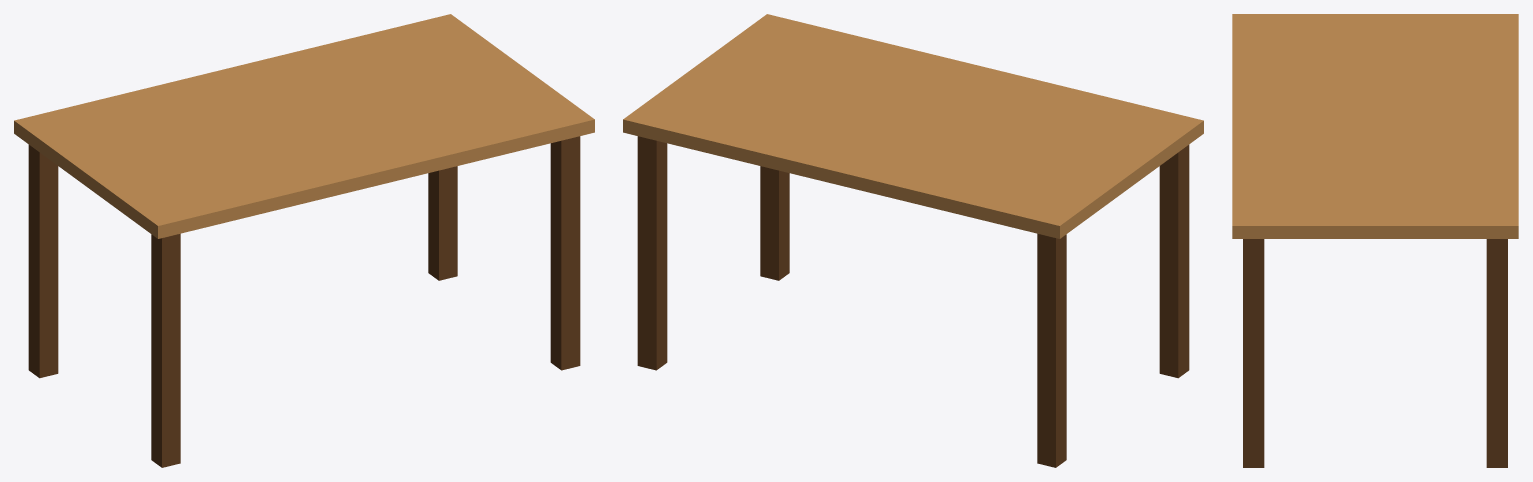
Rendered from table.obj.
3 renders of one model, left to right at view 1: azimuth 30°, elevation 25°; view 2: azimuth 150°, elevation 25°; view 3: azimuth 270°, elevation 25°, orthographic.
Visible parts, largest first — view 1: table_0, table_4, table_3, table_1, table_2; view 2: table_0, table_2, table_1, table_3, table_4; view 3: table_0, table_2, table_4.
Part boxes in pixels (x1,y1,x2,y2): table_0: [14, 14, 594, 238]; table_4: [550, 136, 580, 370]; table_3: [151, 233, 180, 467]; table_1: [28, 144, 58, 378]; table_2: [428, 166, 457, 280]; table_0: [623, 14, 1203, 238]; table_2: [637, 136, 667, 370]; table_1: [1037, 233, 1066, 467]; table_3: [1159, 144, 1189, 378]; table_4: [760, 166, 789, 280]; table_0: [1232, 14, 1518, 238]; table_2: [1486, 239, 1507, 467]; table_4: [1243, 239, 1264, 467].
Size of the model in its own units: 1.4 by 0.76 by 0.8.
